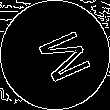M_SW: (22, 23, 88, 87)
